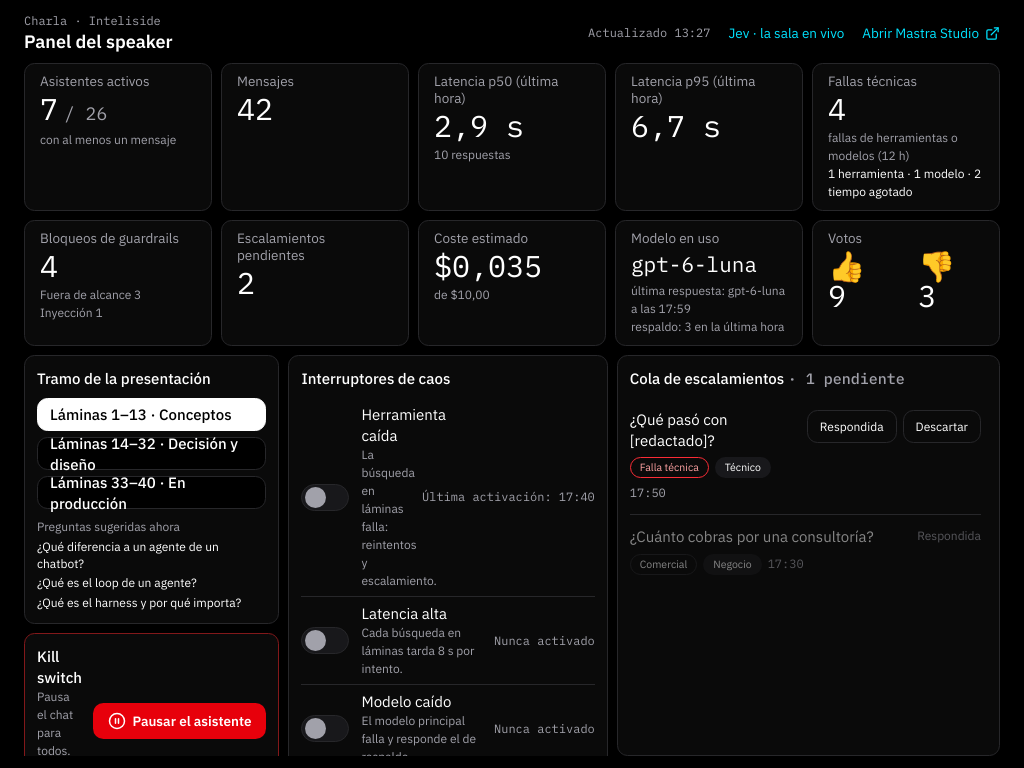
Test: Panel del speaker › kill switch › pide confirmación: cancelar no cambia nada
expect the text "42" is shown: met, box [237,94,273,124]
Click the button "Pausar el asistente" at x=180, y=721, box [93,703,266,739]
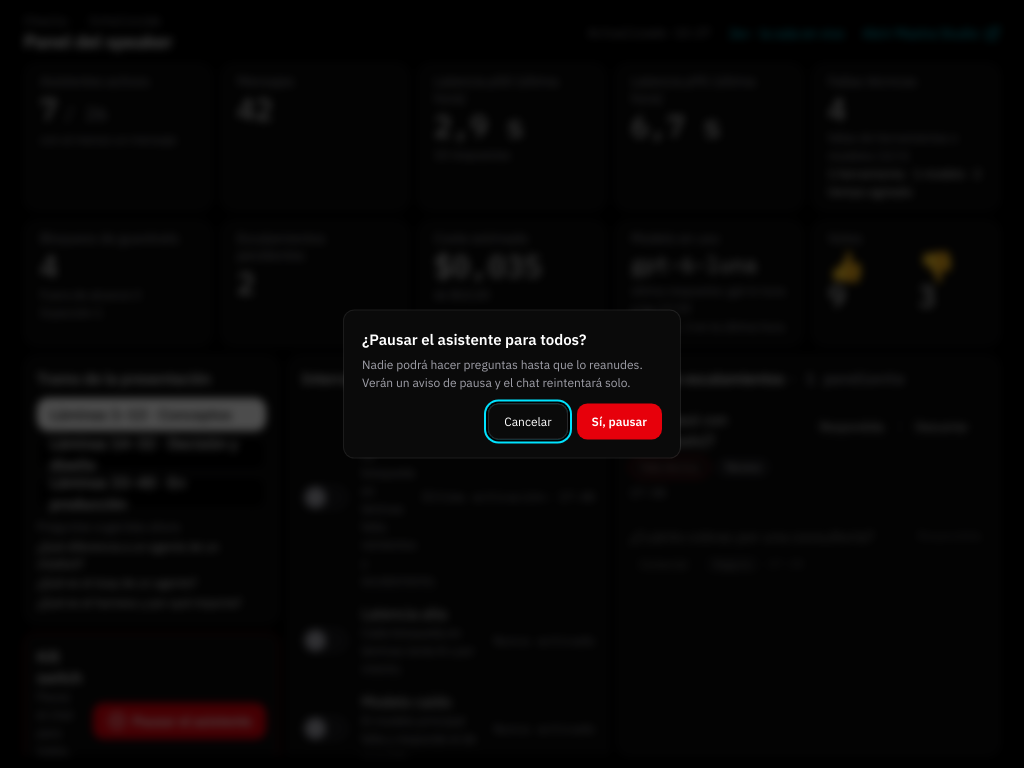
expect the heading "¿Pausar el asistente para todos?" is shown: met, box [362,330,586,348]
Click the button "Cancelar" at x=528, y=422, box [488,404,568,440]
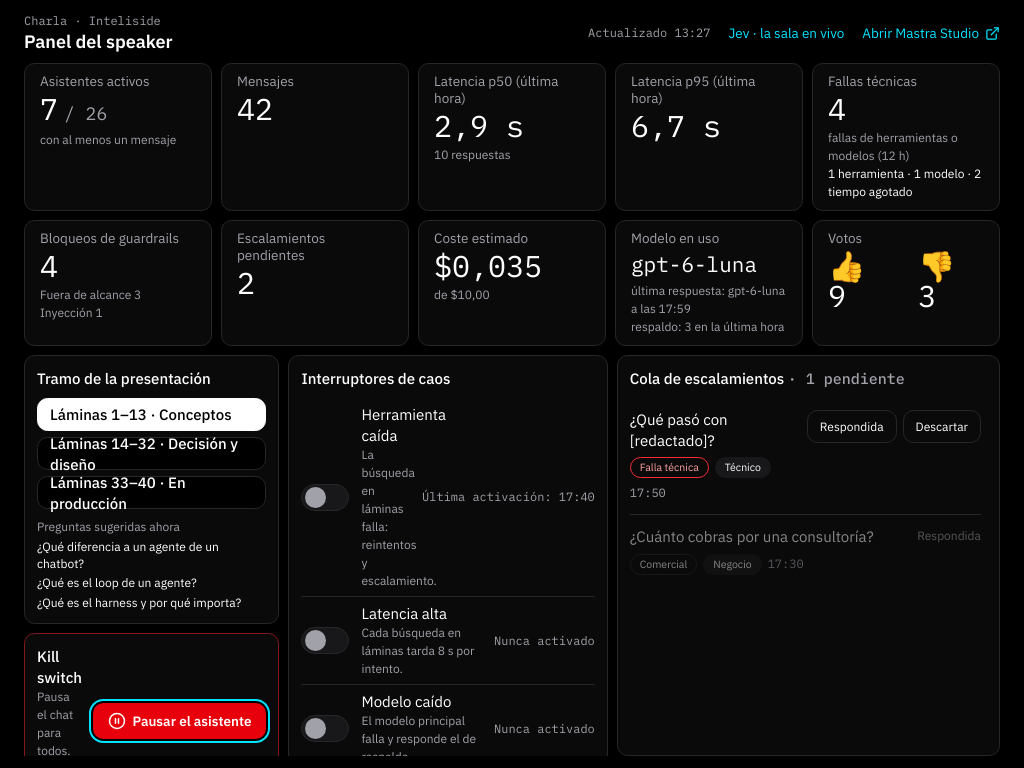
expect the dialog is gone: met
